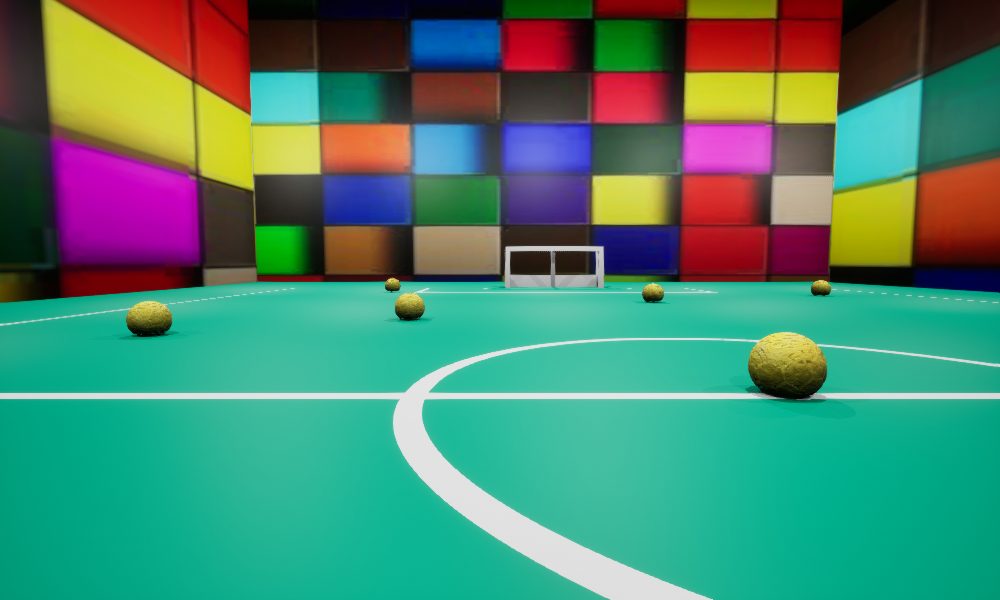b: (748, 332, 826, 396), (126, 301, 171, 335), (395, 292, 424, 319), (642, 283, 663, 301), (811, 280, 830, 295), (385, 278, 400, 291)
g: (505, 246, 603, 287)
